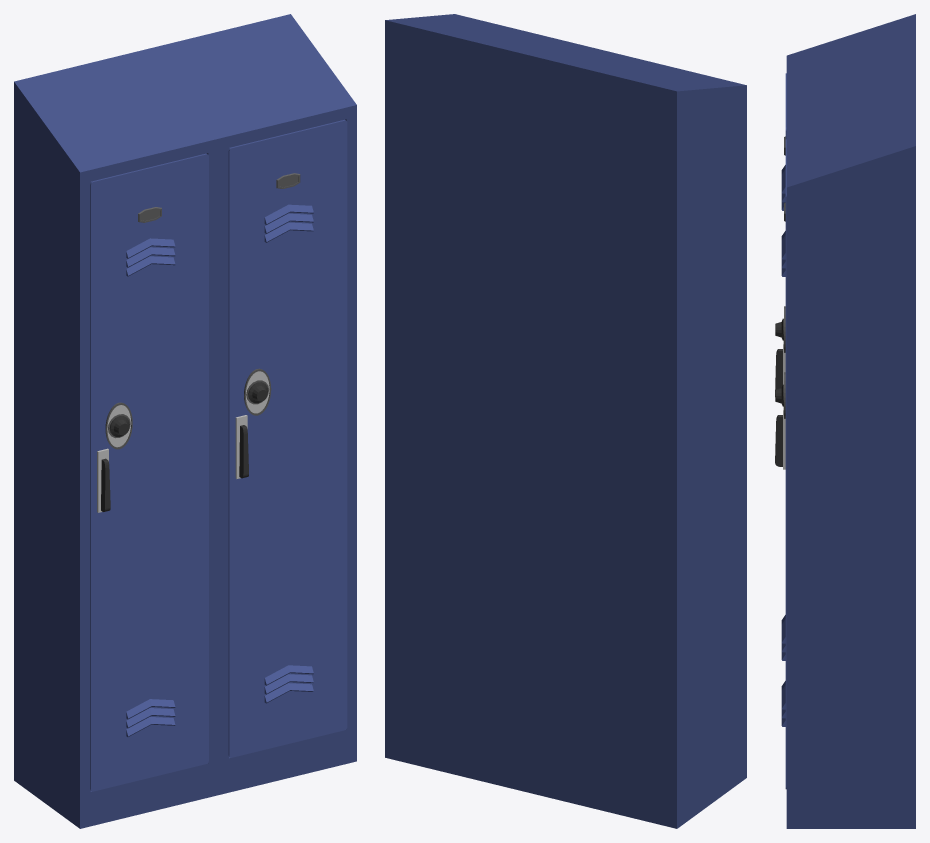
Rendered from locker.fbx.
The picture shows the model from 3 angles, left to right: view 1: azimuth 30°, elevation 25°; view 2: azimuth 150°, elevation 25°; view 3: azimuth 270°, elevation 25°; orthographic projection. The views are drawn at different scales.
Visible parts, largest first — view 1: Locker, Locker Door.001, Locker Door; view 2: Locker; view 3: Locker, Locker Door.001, Locker Door.
Boxes of the visible parts, <box> form: Locker: <box>14,14,356,828</box>; Locker Door.001: <box>228,119,347,757</box>; Locker Door: <box>90,153,208,791</box>; Locker: <box>385,14,746,828</box>; Locker: <box>786,14,915,828</box>; Locker Door.001: <box>775,139,786,789</box>; Locker Door: <box>775,73,786,660</box>.
Size of the model in its own units: 87.04 by 39.26 by 210.
